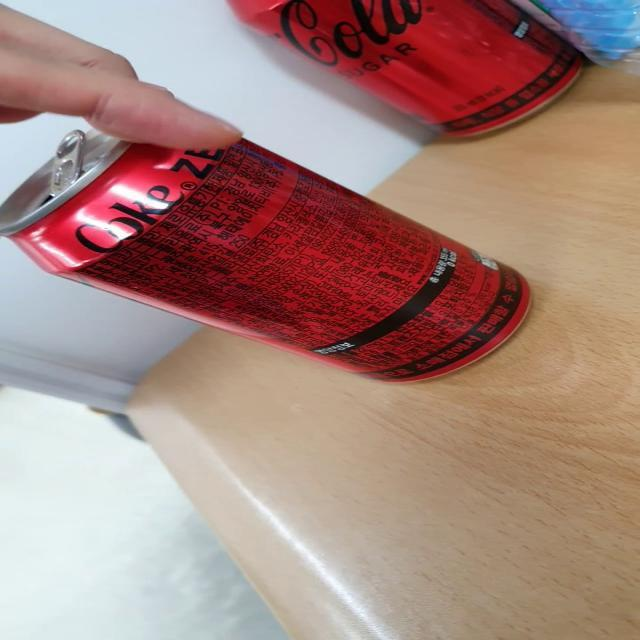coca-cola: (19, 114, 543, 396), (225, 1, 607, 141)
